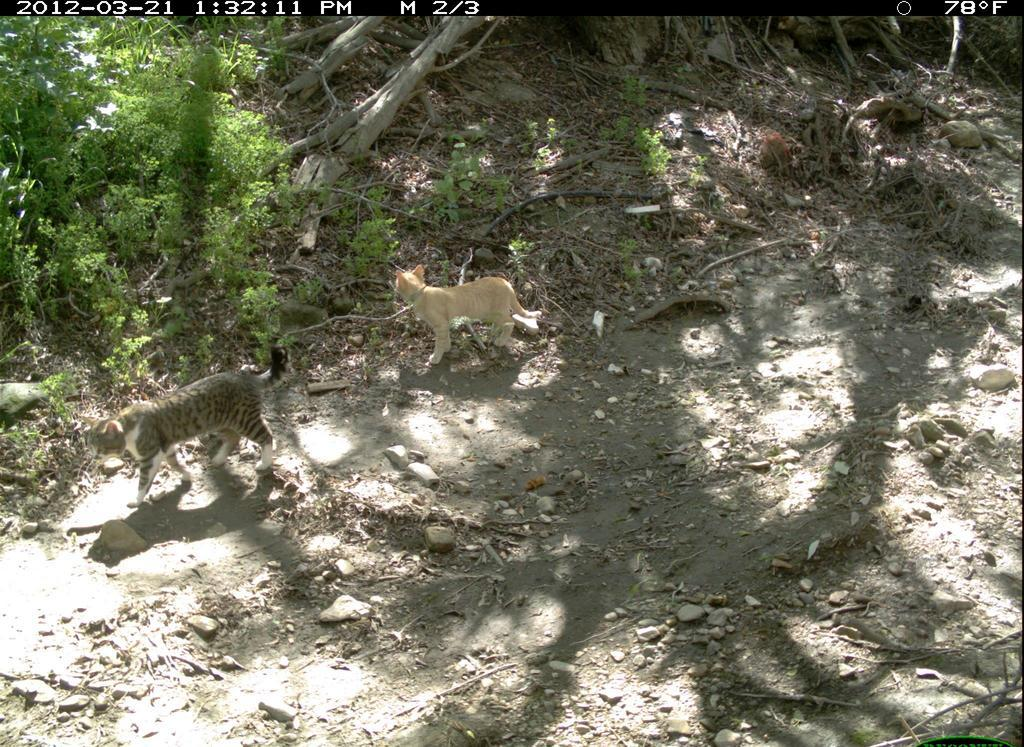cat: (81, 342, 296, 511), (390, 250, 555, 374)
